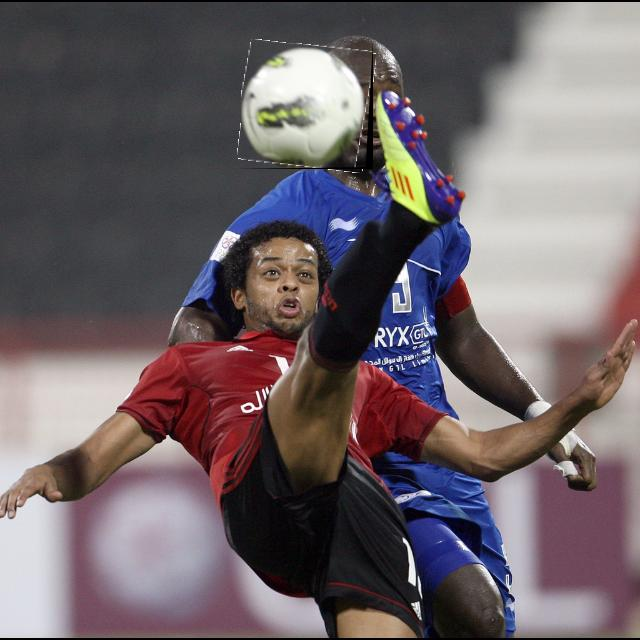Football: (241, 43, 373, 169)
